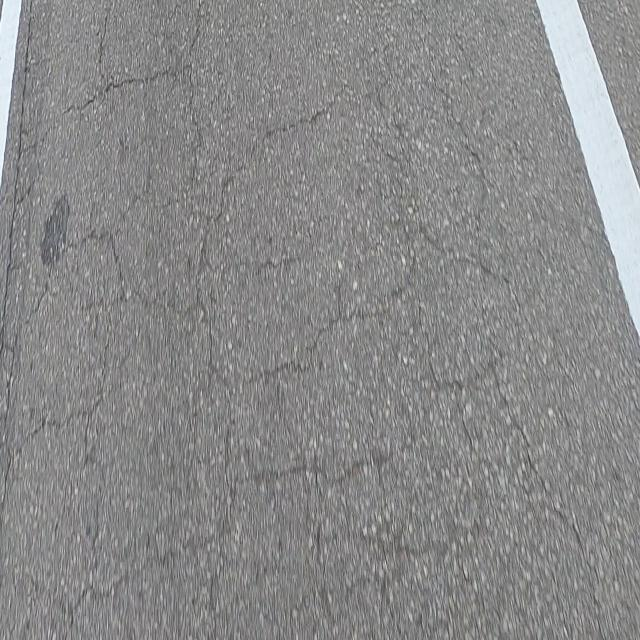Retak-Buaya: (0, 0, 525, 640)
Retak-Memanjang: (0, 0, 31, 350)
